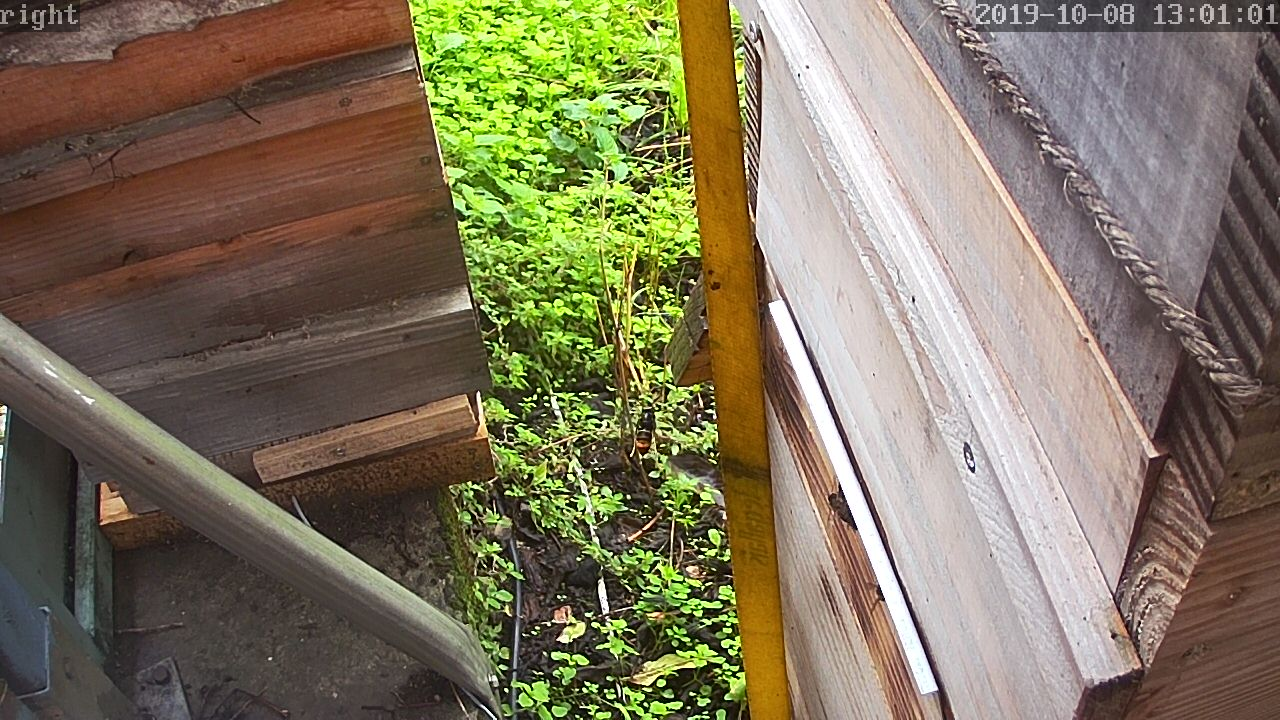bee: (813, 486, 854, 527), (860, 577, 892, 619)
hornet: (630, 408, 655, 459)
